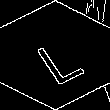L_NW: (25, 25, 85, 85)
